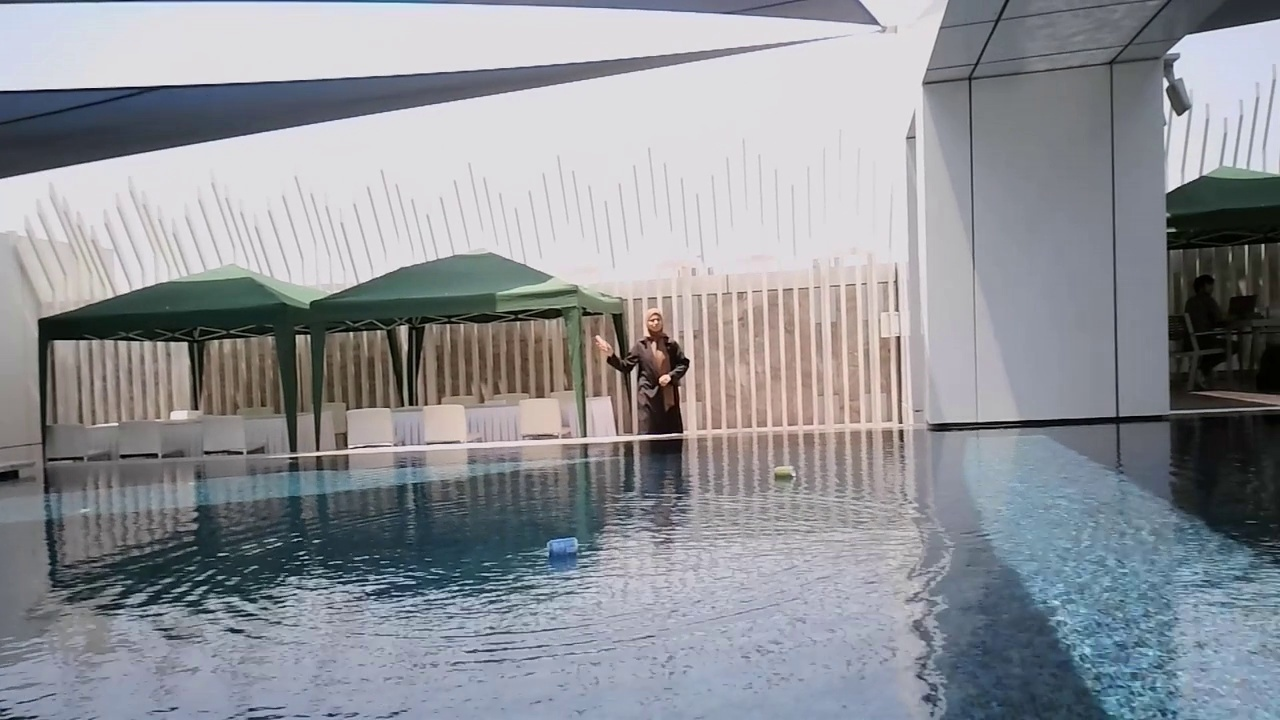debris: (544, 537, 582, 563), (772, 464, 798, 484)
